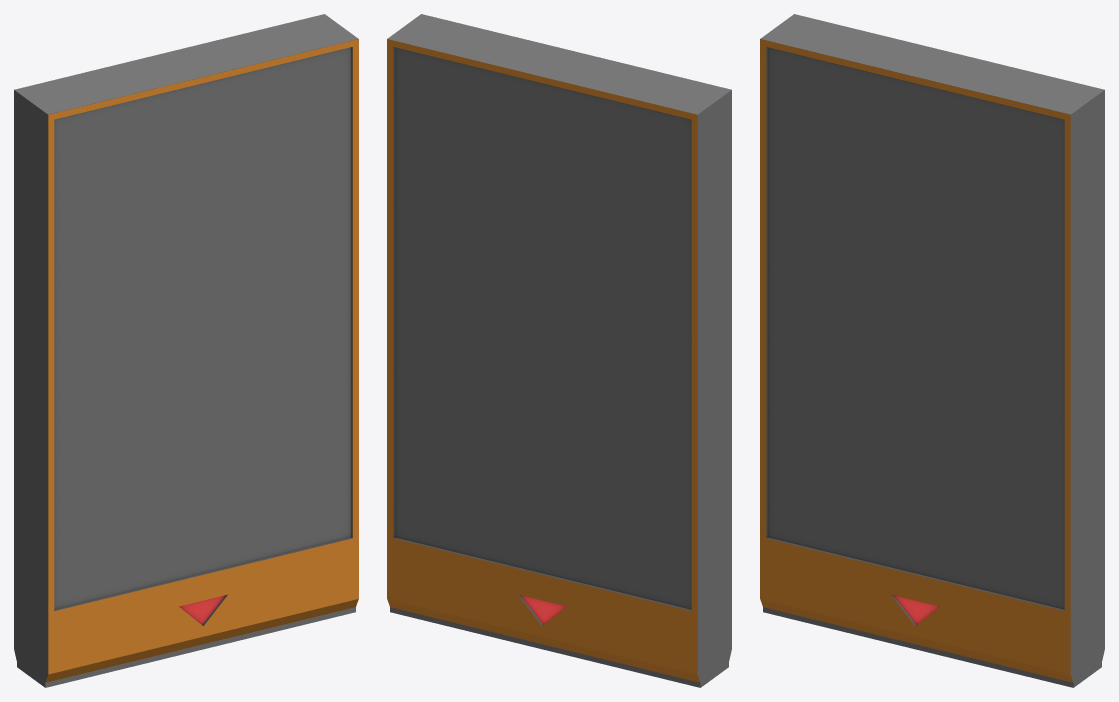
Rendered from slidingdoor01.gltf.
3 renders of one model, left to right at view 1: azimuth 30°, elevation 25°; view 2: azimuth 150°, elevation 25°; view 3: azimuth 330°, elevation 25°, orthographic.
Parts seen in each view (by area): view 1: SlidingDoor01; view 2: SlidingDoor01; view 3: SlidingDoor01.
Boxes of the visible parts, bbox=[...] form: SlidingDoor01: bbox=[14, 14, 358, 687]; SlidingDoor01: bbox=[387, 14, 731, 687]; SlidingDoor01: bbox=[760, 14, 1104, 687].
Size of the model in its own units: 1.26 by 2.23 by 0.24.
1 material, 1 textured.
